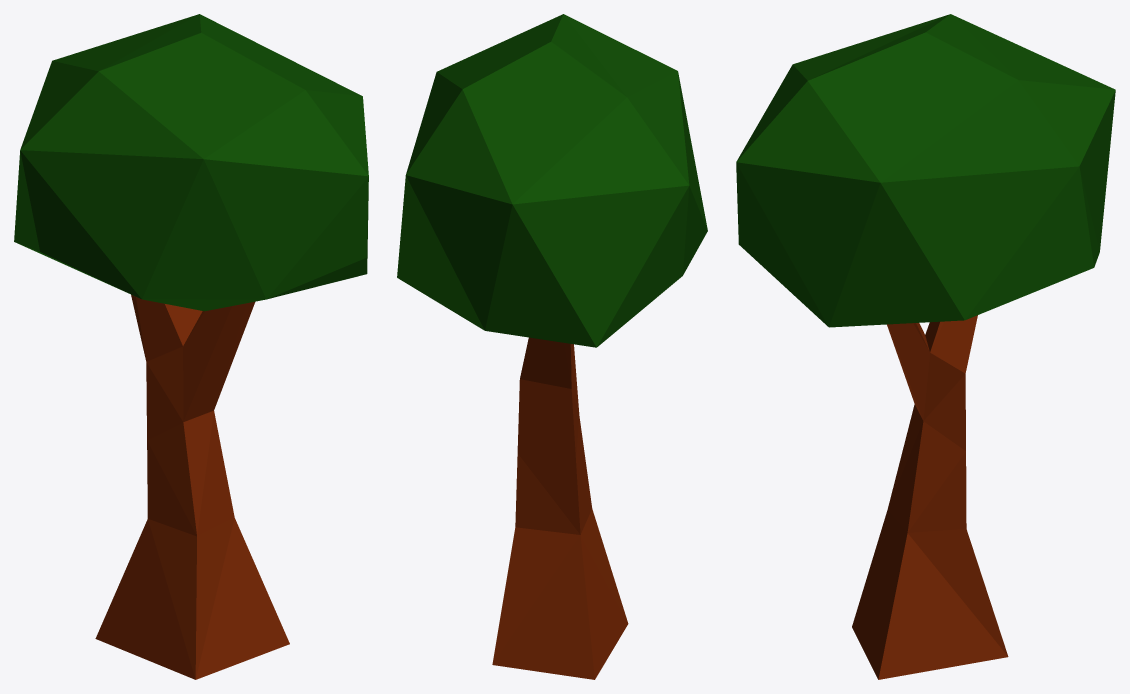
File: TestTree.fbx
The picture shows the model from 3 angles, left to right: view 1: azimuth 30°, elevation 25°; view 2: azimuth 150°, elevation 25°; view 3: azimuth 270°, elevation 25°; orthographic projection. The views are drawn at different scales.
Parts seen in each view (by area): view 1: GeoSphere001, Trunk011; view 2: GeoSphere001, Trunk011; view 3: GeoSphere001, Trunk011.
Boxes of the visible parts, x1,y1,x2,y2 form: GeoSphere001: (14, 14, 368, 311); Trunk011: (95, 294, 289, 679); GeoSphere001: (397, 14, 707, 347); Trunk011: (492, 337, 628, 679); GeoSphere001: (736, 14, 1115, 327); Trunk011: (852, 315, 1008, 679).
Size of the model in its own units: 2605 by 2828 by 5059.
